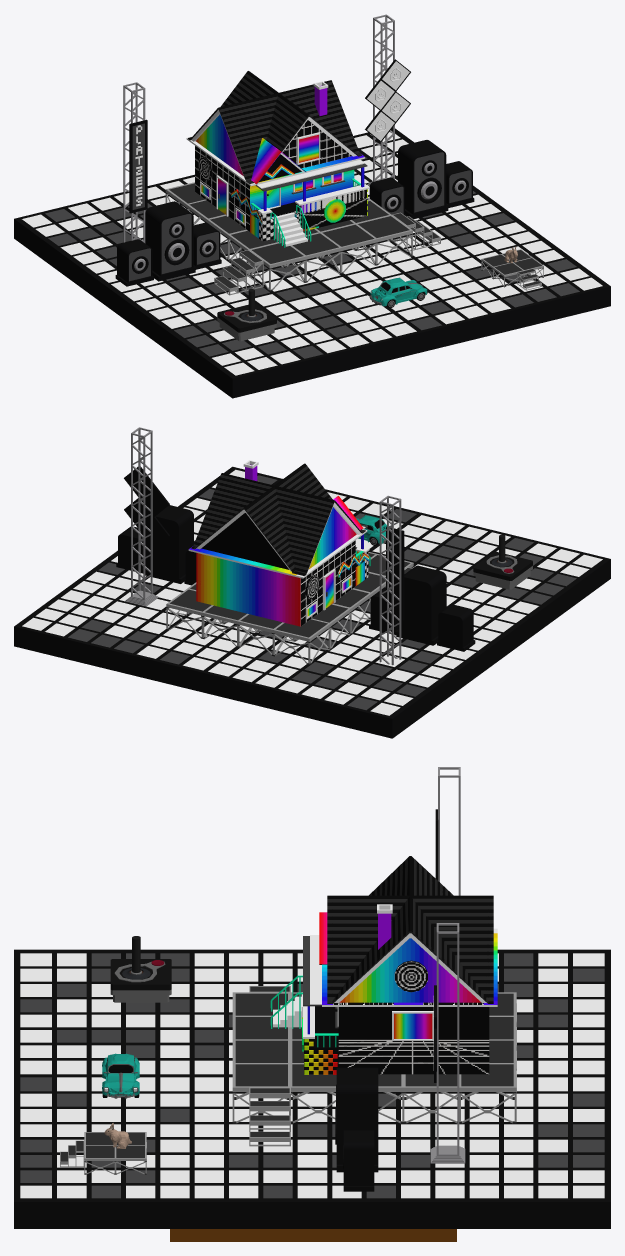
3 views of the same model, one above another, from view 1: azimuth 30°, elevation 25°; view 2: azimuth 150°, elevation 25°; view 3: azimuth 270°, elevation 25° (orthographic). The views are drawn at different scales.
Parts seen in each view (by area): view 1: Cube.008, Cube.1320, OBJRANDOM_JOYSTICK, VEHICLES_VOLKSWAGEN; view 2: Cube.008, Cube.1320, OBJRANDOM_JOYSTICK, VEHICLES_VOLKSWAGEN; view 3: Cube.008, Cube.1320, UNDERGROUND_ART_PIECE_VAN_GOGH, OBJRANDOM_JOYSTICK, VEHICLES_VOLKSWAGEN.
Boxes of the visible parts, box(x1,y1,x2,y2) form: Cube.008: box(14, 14, 610, 398); Cube.1320: box(186, 71, 369, 247); OBJRANDOM_JOYSTICK: box(217, 289, 276, 341); VEHICLES_VOLKSWAGEN: box(369, 277, 427, 308); Cube.008: box(14, 427, 610, 738); Cube.1320: box(188, 460, 370, 626); OBJRANDOM_JOYSTICK: box(473, 534, 532, 589); VEHICLES_VOLKSWAGEN: box(356, 515, 389, 545); Cube.008: box(14, 767, 610, 1228); Cube.1320: box(270, 856, 497, 1074); UNDERGROUND_ART_PIECE_VAN_GOGH: box(170, 1229, 456, 1241); OBJRANDOM_JOYSTICK: box(110, 936, 171, 1002); VEHICLES_VOLKSWAGEN: box(102, 1053, 139, 1098).
Bounding box in the file's own units: 4000 × 2098 × 4000.
Materials: 40 (4 with a texture image).
